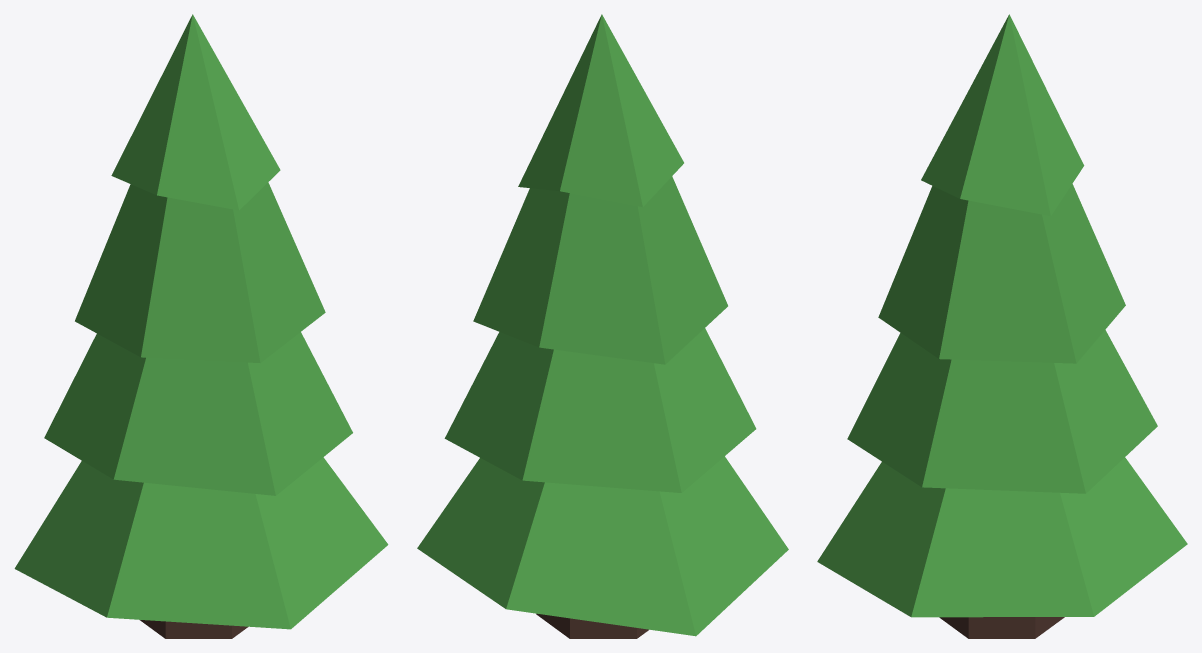
The model's file is Tree_Pine01.fbx.
3 renders of one model, left to right at view 1: azimuth 30°, elevation 25°; view 2: azimuth 150°, elevation 25°; view 3: azimuth 270°, elevation 25°, orthographic.
Parts seen in each view (by area): view 1: Tree_Pine01; view 2: Tree_Pine01; view 3: Tree_Pine01.
Part boxes in pixels (x1=…): Tree_Pine01: x1=14, y1=14, x2=388, y2=638; Tree_Pine01: x1=417, y1=14, x2=788, y2=638; Tree_Pine01: x1=817, y1=14, x2=1187, y2=638.
Bounding box in the file's own units: 1.23 × 2.48 × 1.39.
